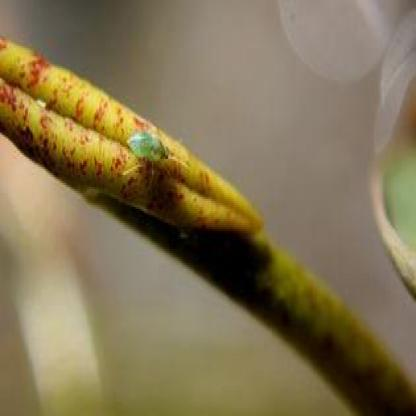aphid: (124, 117, 189, 198)
